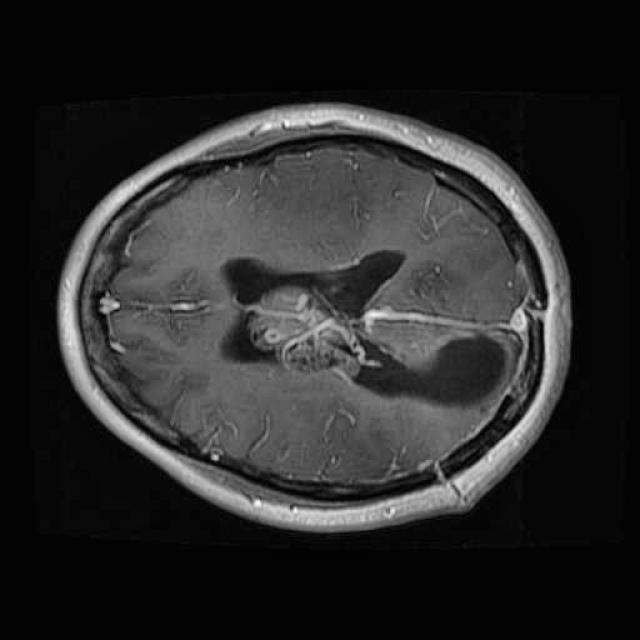Tumor: (226, 266, 385, 402)
